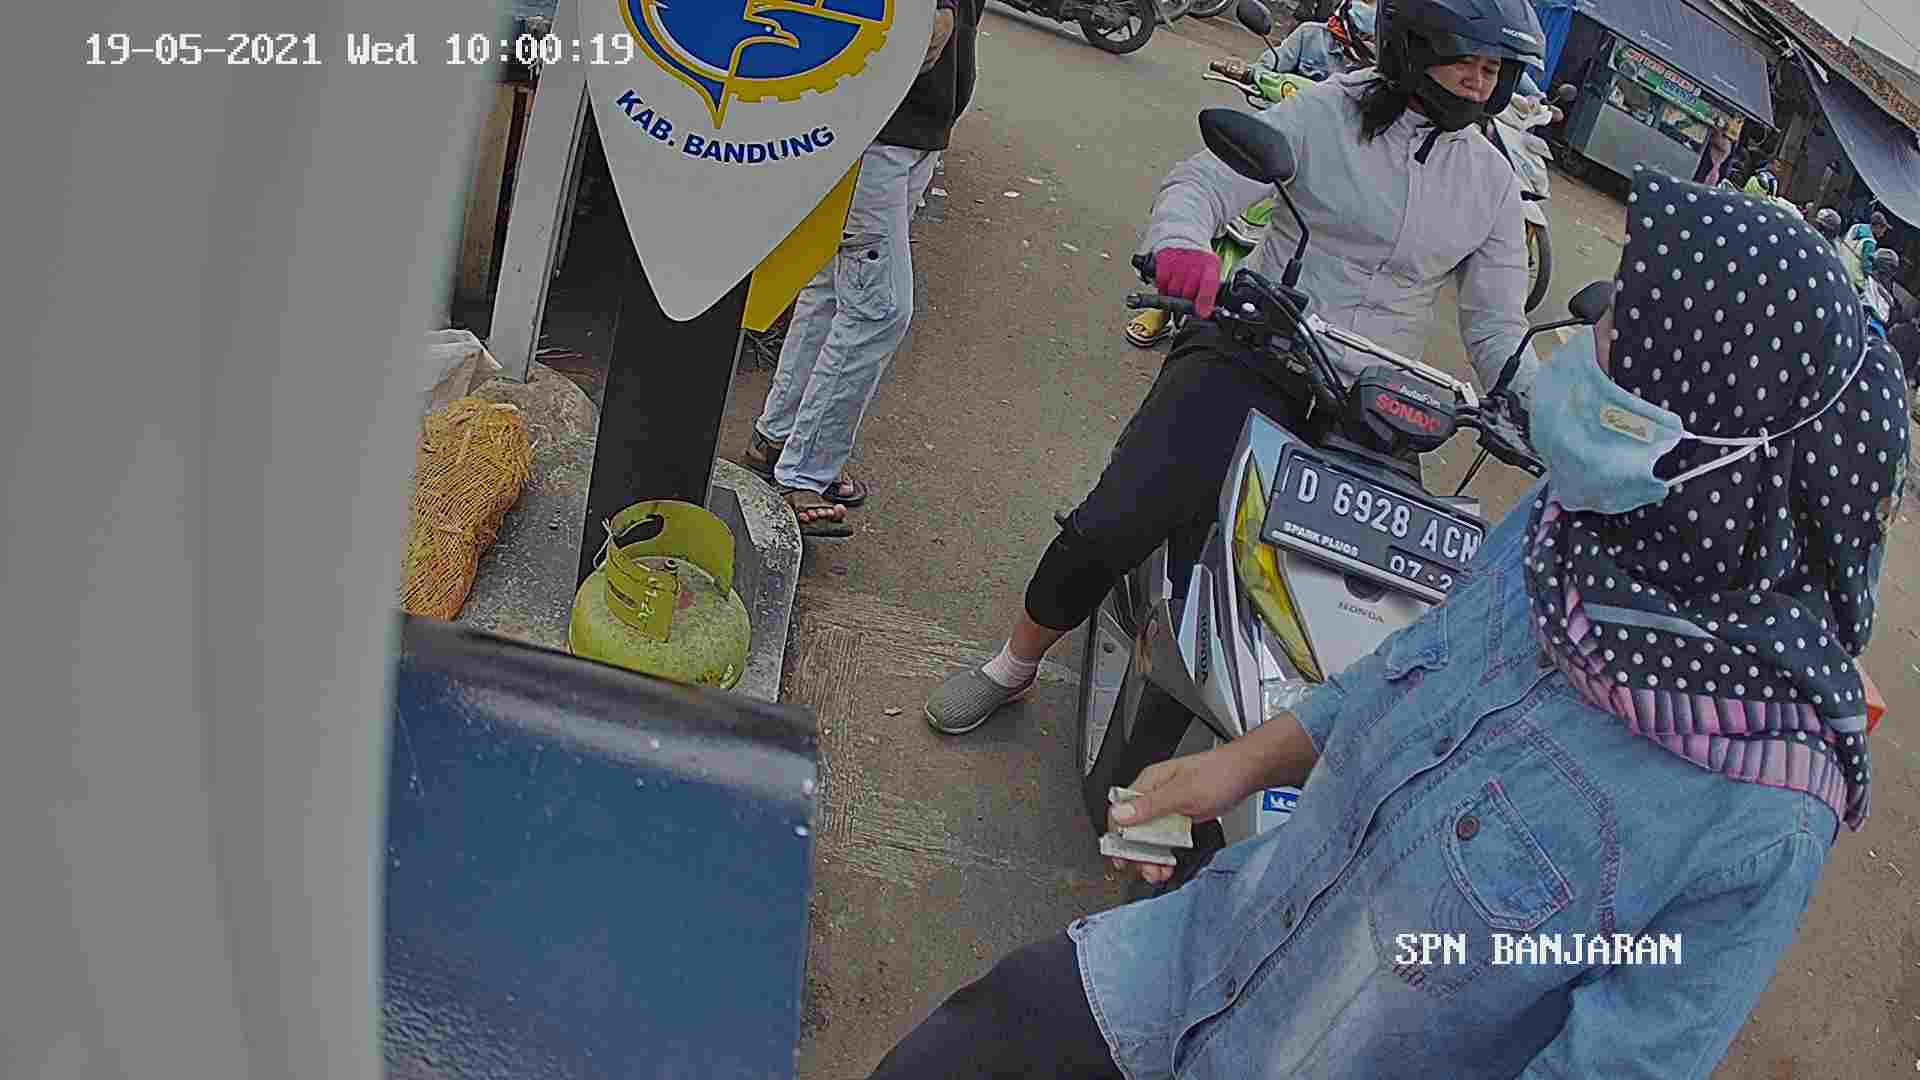motor: (1102, 297, 1460, 847)
